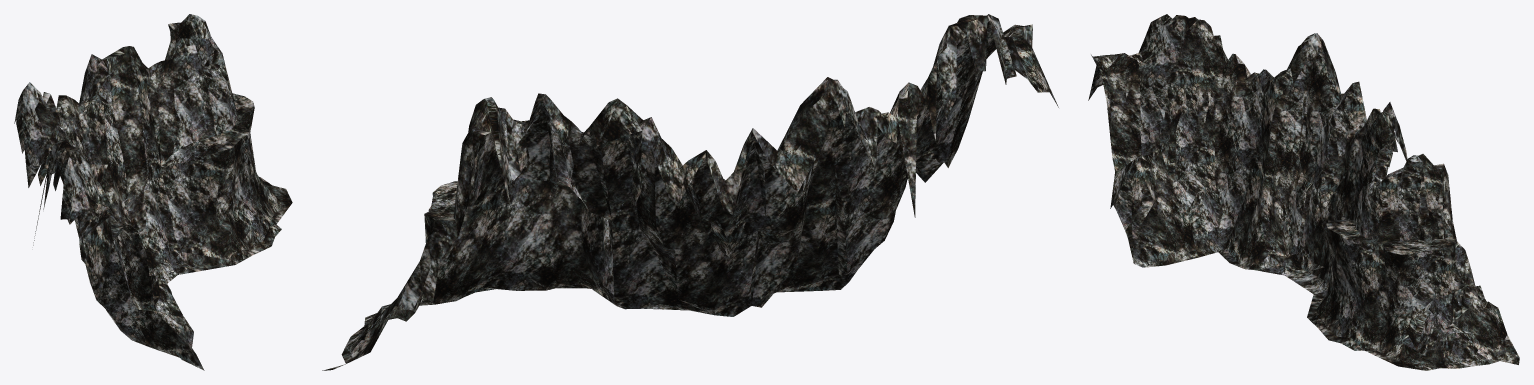
The model's file is OVERHILL_A_01_MOUNTAIN0001.fbx.
The picture shows the model from 3 angles, left to right: view 1: azimuth 30°, elevation 25°; view 2: azimuth 150°, elevation 25°; view 3: azimuth 270°, elevation 25°; orthographic projection. The views are drawn at different scales.
Visible parts, largest first — view 1: OVERHILL_A_01_MOUNTAIN0001; view 2: OVERHILL_A_01_MOUNTAIN0001; view 3: OVERHILL_A_01_MOUNTAIN0001.
Boxes of the visible parts, left/top/right/bottom form: OVERHILL_A_01_MOUNTAIN0001: left=14, top=14, right=292, bottom=370; OVERHILL_A_01_MOUNTAIN0001: left=322, top=14, right=1058, bottom=370; OVERHILL_A_01_MOUNTAIN0001: left=1088, top=14, right=1519, bottom=370.
Bounding box in the file's own units: 723062 × 423323 × 813127.
Materials: 1 (1 with a texture image).
